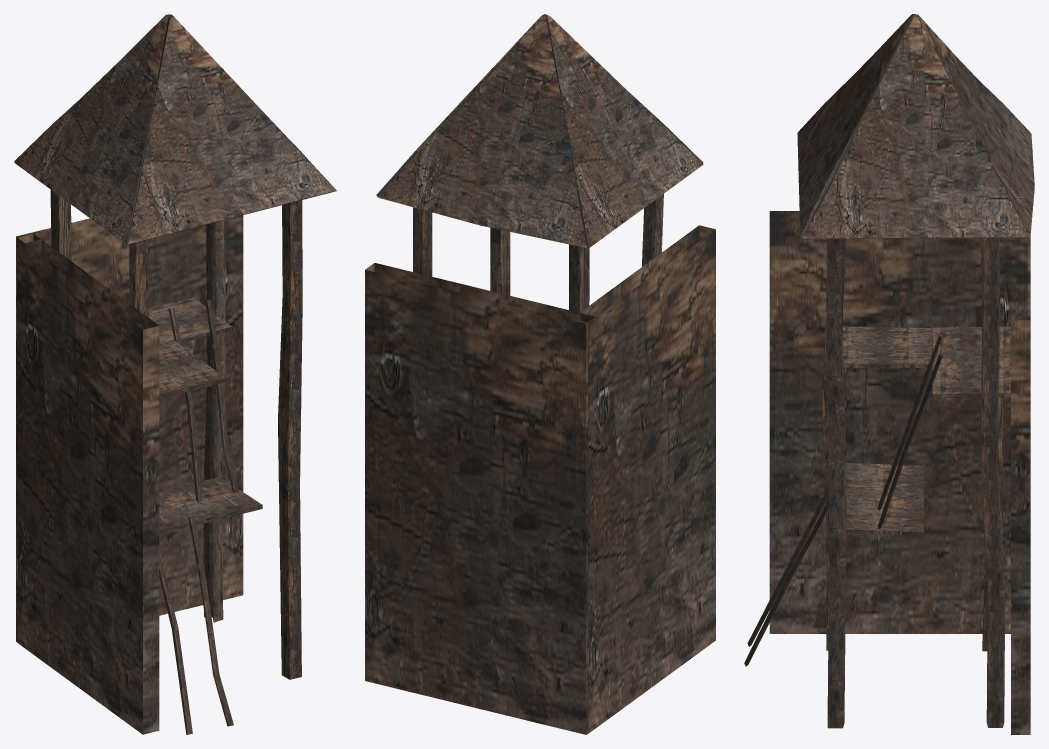
File: wall_corner_lod2.fbx
3 renders of one model, left to right at view 1: azimuth 30°, elevation 25°; view 2: azimuth 150°, elevation 25°; view 3: azimuth 270°, elevation 25°, orthographic. The views are drawn at different scales.
Visible parts, largest first — view 1: Default_Layer; view 2: Default_Layer; view 3: Default_Layer.
Boxes of the visible parts, x1,y1,x2,y2 form: Default_Layer: [14, 14, 336, 734]; Default_Layer: [365, 14, 715, 734]; Default_Layer: [744, 14, 1034, 734].
Size of the model in its own units: 591 by 1670 by 658.
